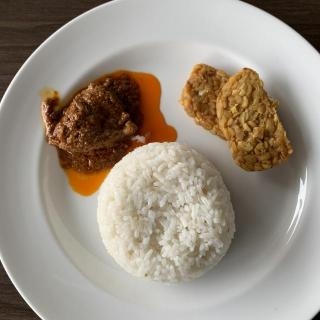Nasi: (99, 145, 236, 286)
